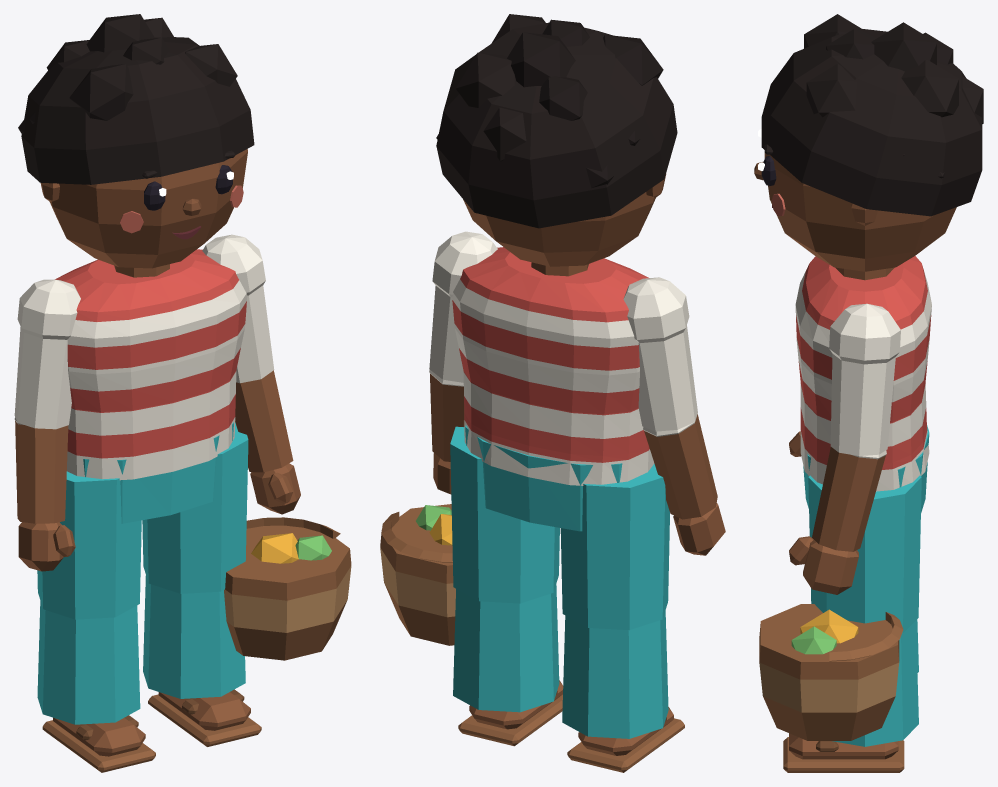
The model's file is pel-k1.glb.
3 views of the same model, side by side, from view 1: azimuth 30°, elevation 25°; view 2: azimuth 150°, elevation 25°; view 3: azimuth 270°, elevation 25° (orthographic). The views are drawn at different scales.
Visible parts, largest first — view 1: torso, haare, bein_r, bein_l, gegenstand_basket, kopf, arm_r, arm_l, becken, schuh_r, schuh_l, hand_r (+2 smaller); view 2: haare, torso, bein_r, bein_l, arm_r, gegenstand_basket, arm_l, kopf, becken, schuh_r, schuh_l, hand_r; view 3: haare, torso, gegenstand_basket, arm_l, bein_l, kopf, schuh_l, hand_l, gesicht, becken, hals.
Part boxes in pixels (bbox=[...]): torso: bbox=[55, 249, 247, 480]; haare: bbox=[18, 14, 254, 184]; bein_r: bbox=[37, 471, 141, 724]; bein_l: bbox=[142, 422, 248, 698]; gegenstand_basket: bbox=[224, 517, 351, 660]; kopf: bbox=[40, 149, 247, 268]; arm_r: bbox=[14, 279, 80, 523]; arm_l: bbox=[202, 234, 293, 472]; becken: bbox=[83, 422, 233, 523]; schuh_r: bbox=[42, 715, 155, 772]; schuh_l: bbox=[148, 689, 261, 746]; hand_r: bbox=[18, 522, 75, 571]; haare: bbox=[436, 14, 677, 228]; torso: bbox=[452, 247, 654, 485]; bein_r: bbox=[560, 464, 669, 738]; bein_l: bbox=[450, 426, 559, 712]; arm_r: bbox=[623, 277, 717, 519]; gegenstand_basket: bbox=[380, 504, 455, 645]; arm_l: bbox=[429, 231, 497, 461]; kopf: bbox=[463, 173, 666, 266]; becken: bbox=[465, 425, 622, 531]; schuh_r: bbox=[567, 707, 684, 772]; schuh_l: bbox=[458, 680, 563, 746]; hand_r: bbox=[673, 503, 725, 555]; haare: bbox=[761, 14, 983, 216]; torso: bbox=[795, 256, 931, 491]; gegenstand_basket: bbox=[759, 604, 903, 740]; arm_l: bbox=[812, 303, 900, 551]; bein_l: bbox=[808, 475, 921, 746]; kopf: bbox=[764, 153, 956, 271]; schuh_l: bbox=[783, 733, 904, 772]; hand_l: bbox=[789, 536, 858, 594]; gesicht: bbox=[754, 129, 785, 215]; becken: bbox=[803, 425, 929, 512]; hals: bbox=[835, 267, 894, 280].
Size of the model in its own units: 0.0119 by 0.0249 by 0.00735.
